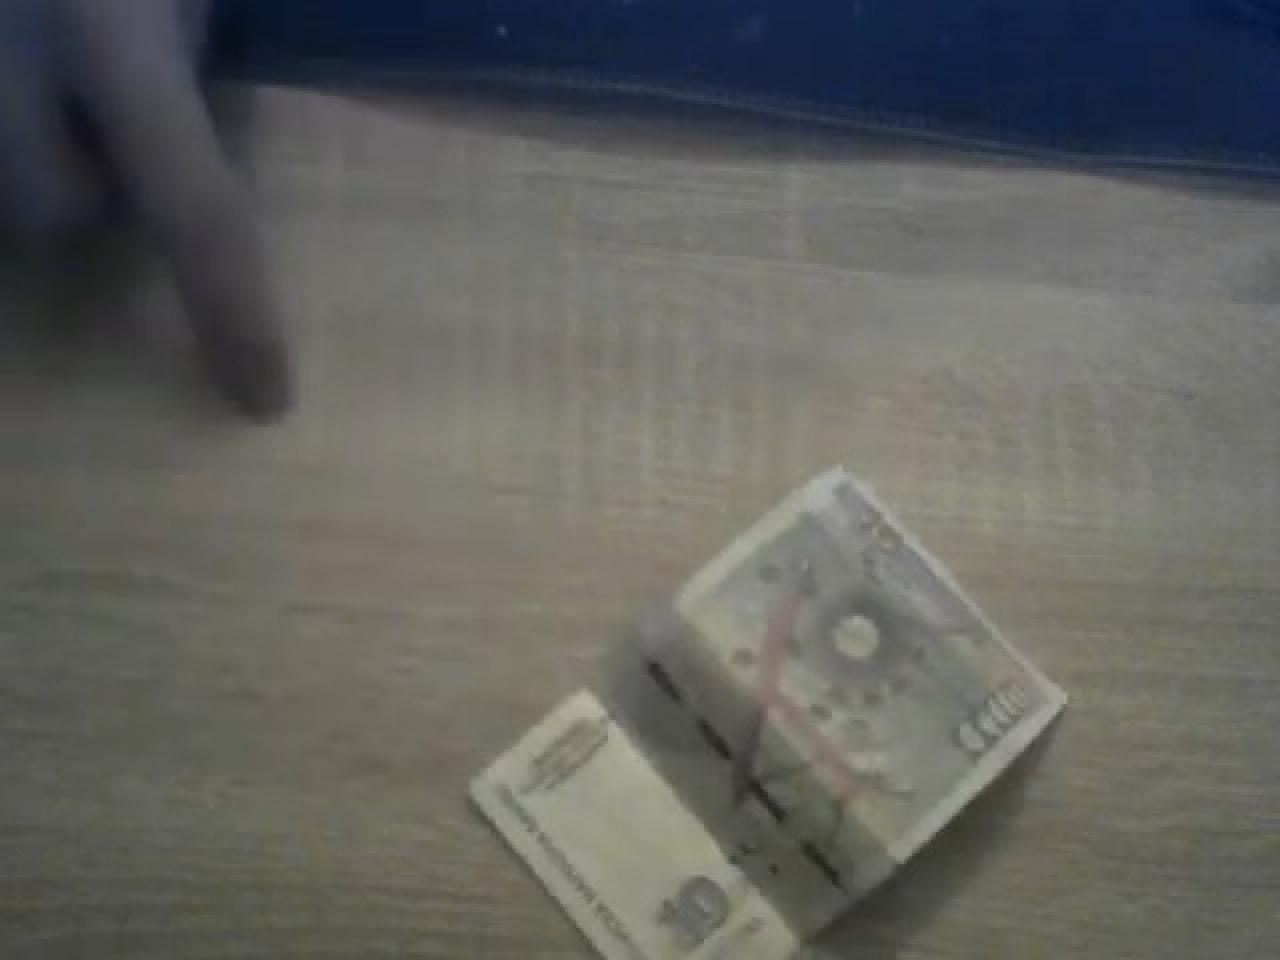10leva: (464, 467, 1072, 960), (464, 467, 1069, 960)
